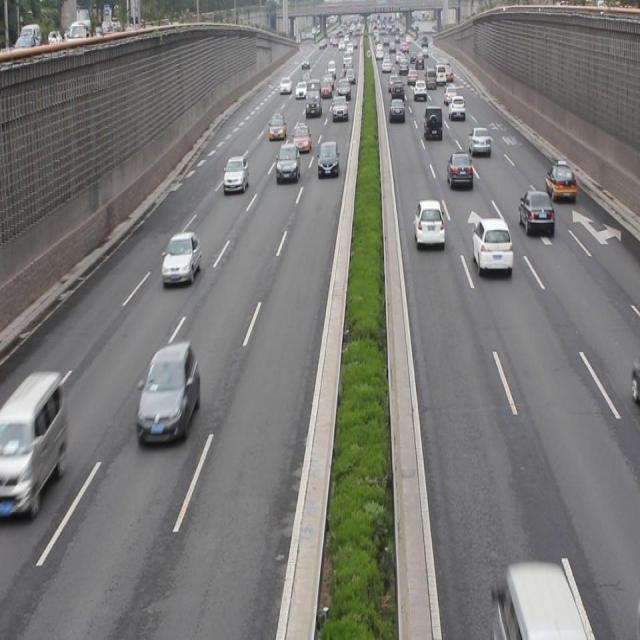car: (135, 339, 199, 444), (162, 228, 202, 286), (471, 217, 512, 271), (518, 188, 553, 235), (413, 198, 443, 248), (544, 162, 576, 202), (446, 152, 474, 191), (223, 152, 249, 193), (275, 142, 301, 183), (316, 140, 339, 178), (467, 125, 491, 158), (422, 104, 443, 141), (267, 112, 287, 140), (292, 122, 310, 153)
truck: (1, 369, 66, 510), (493, 558, 584, 640)
